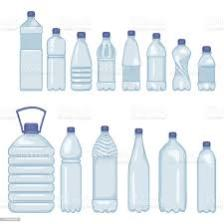plastic: (9, 104, 55, 216), (155, 124, 190, 217), (123, 125, 155, 218), (90, 123, 120, 216), (58, 124, 86, 215), (16, 9, 45, 96), (44, 22, 70, 96), (195, 137, 219, 217), (169, 31, 195, 98), (69, 25, 93, 94), (94, 29, 119, 94), (144, 27, 166, 96), (120, 28, 142, 96), (196, 43, 217, 102)
